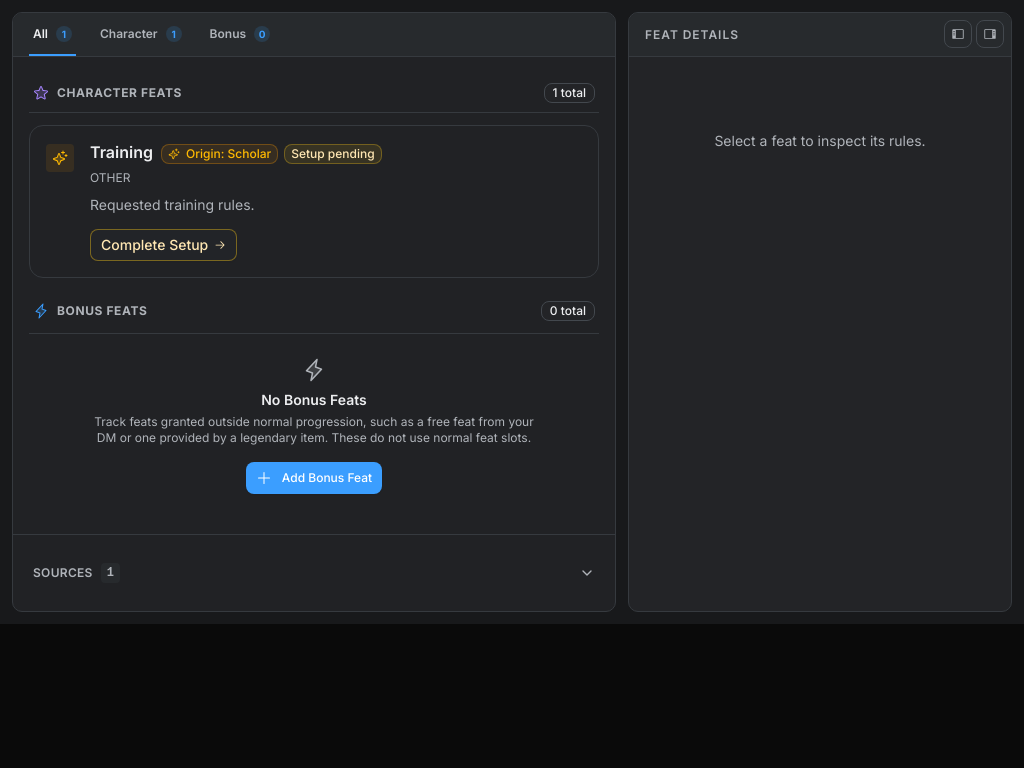
Test case: new fixed feat spell choices continue to honor allowed sources
The image size is (1024, 768).
Click the button "Complete Setup" at [164, 245], box top-left (90, 229), bottom-right (237, 261)
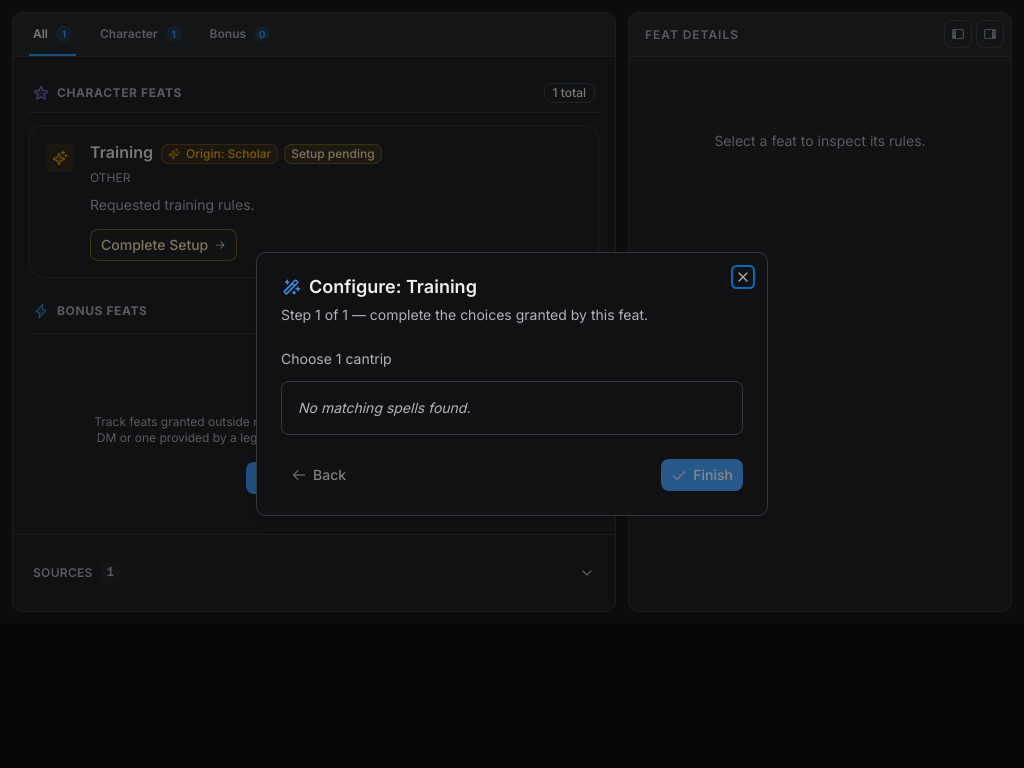
Expected: the text "No matching spells found." is shown, top-left (298, 399), bottom-right (470, 416)
Expected: the button "Finish" is disabled, top-left (661, 459), bottom-right (743, 491)
